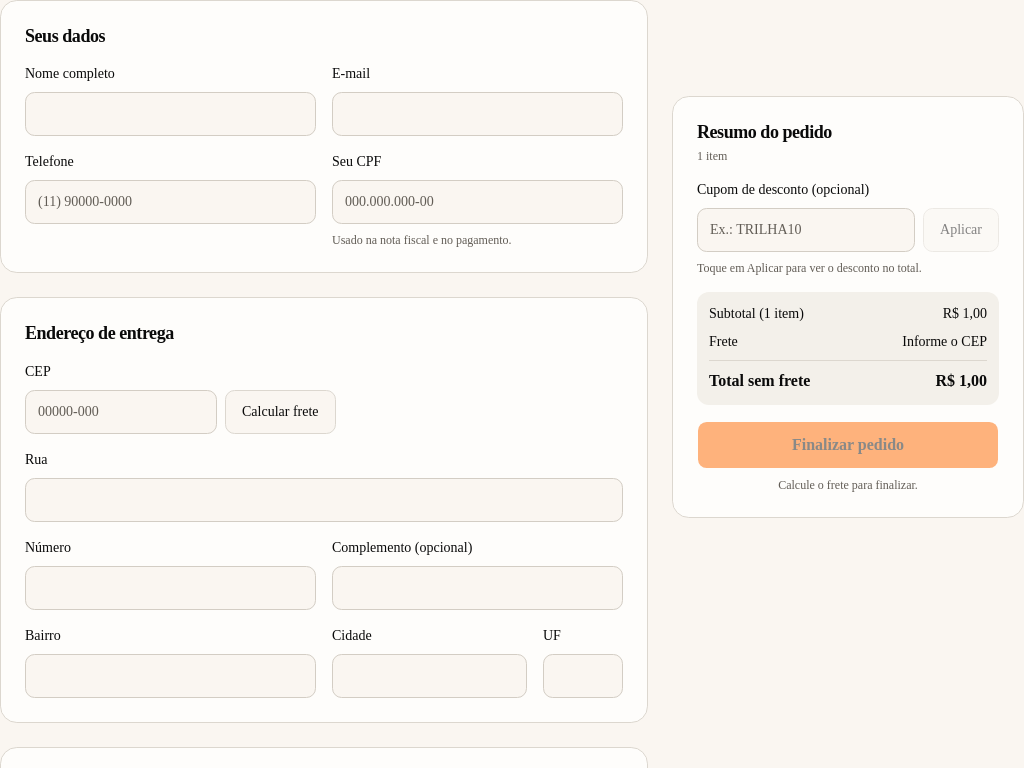
Test: masks the CEP, quotes automatically and submits only digits to the quote action
Type "01001000" into the field labelled "CEP" at (121, 412), box [25,390,217,434]
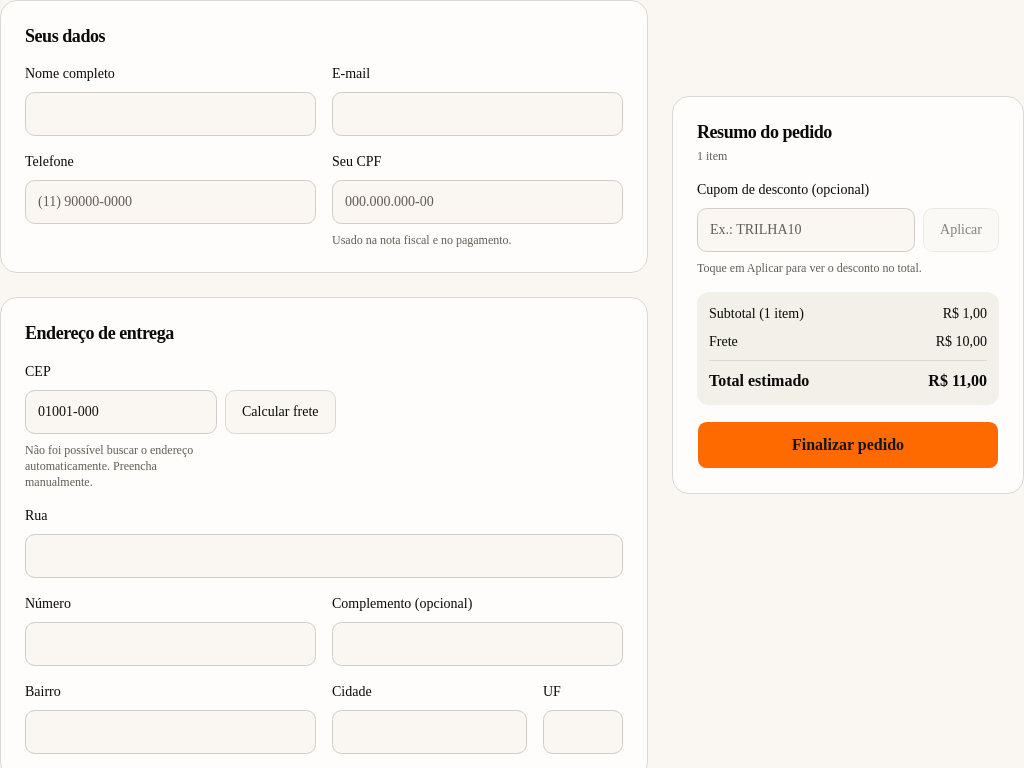
Expected: the field labelled "CEP" holds "01001-000", [25,390,217,434]
Expected: the button "Finalizar pedido" is enabled, [697,421,999,469]
